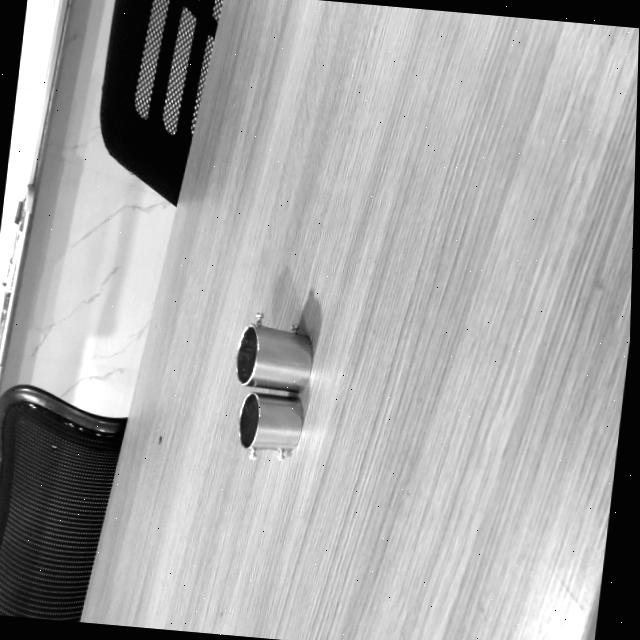Co_Lon: (232, 312, 318, 394)
Co_Nho: (236, 390, 305, 455)
